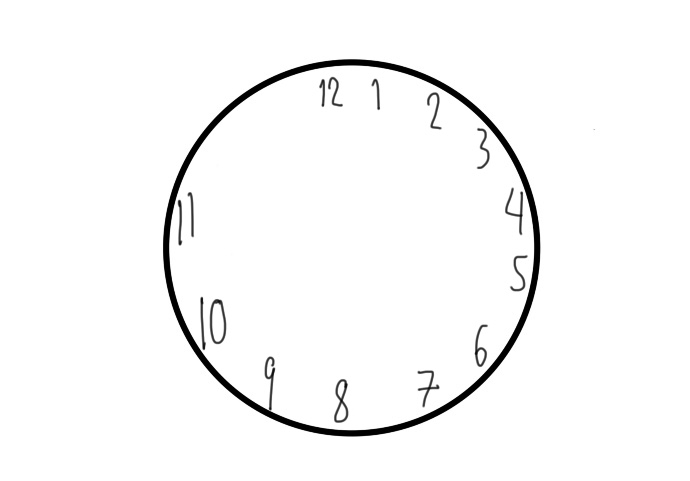eight: (329, 373, 352, 426)
eleven: (171, 194, 198, 247)
five: (509, 248, 527, 294)
four: (502, 186, 524, 238)
nine: (263, 353, 276, 414)
one: (370, 78, 383, 110)
seven: (413, 361, 441, 410)
six: (471, 320, 490, 368)
ten: (196, 289, 230, 353)
three: (472, 127, 490, 171)
twelve: (315, 72, 347, 110)
two: (424, 91, 441, 134)
